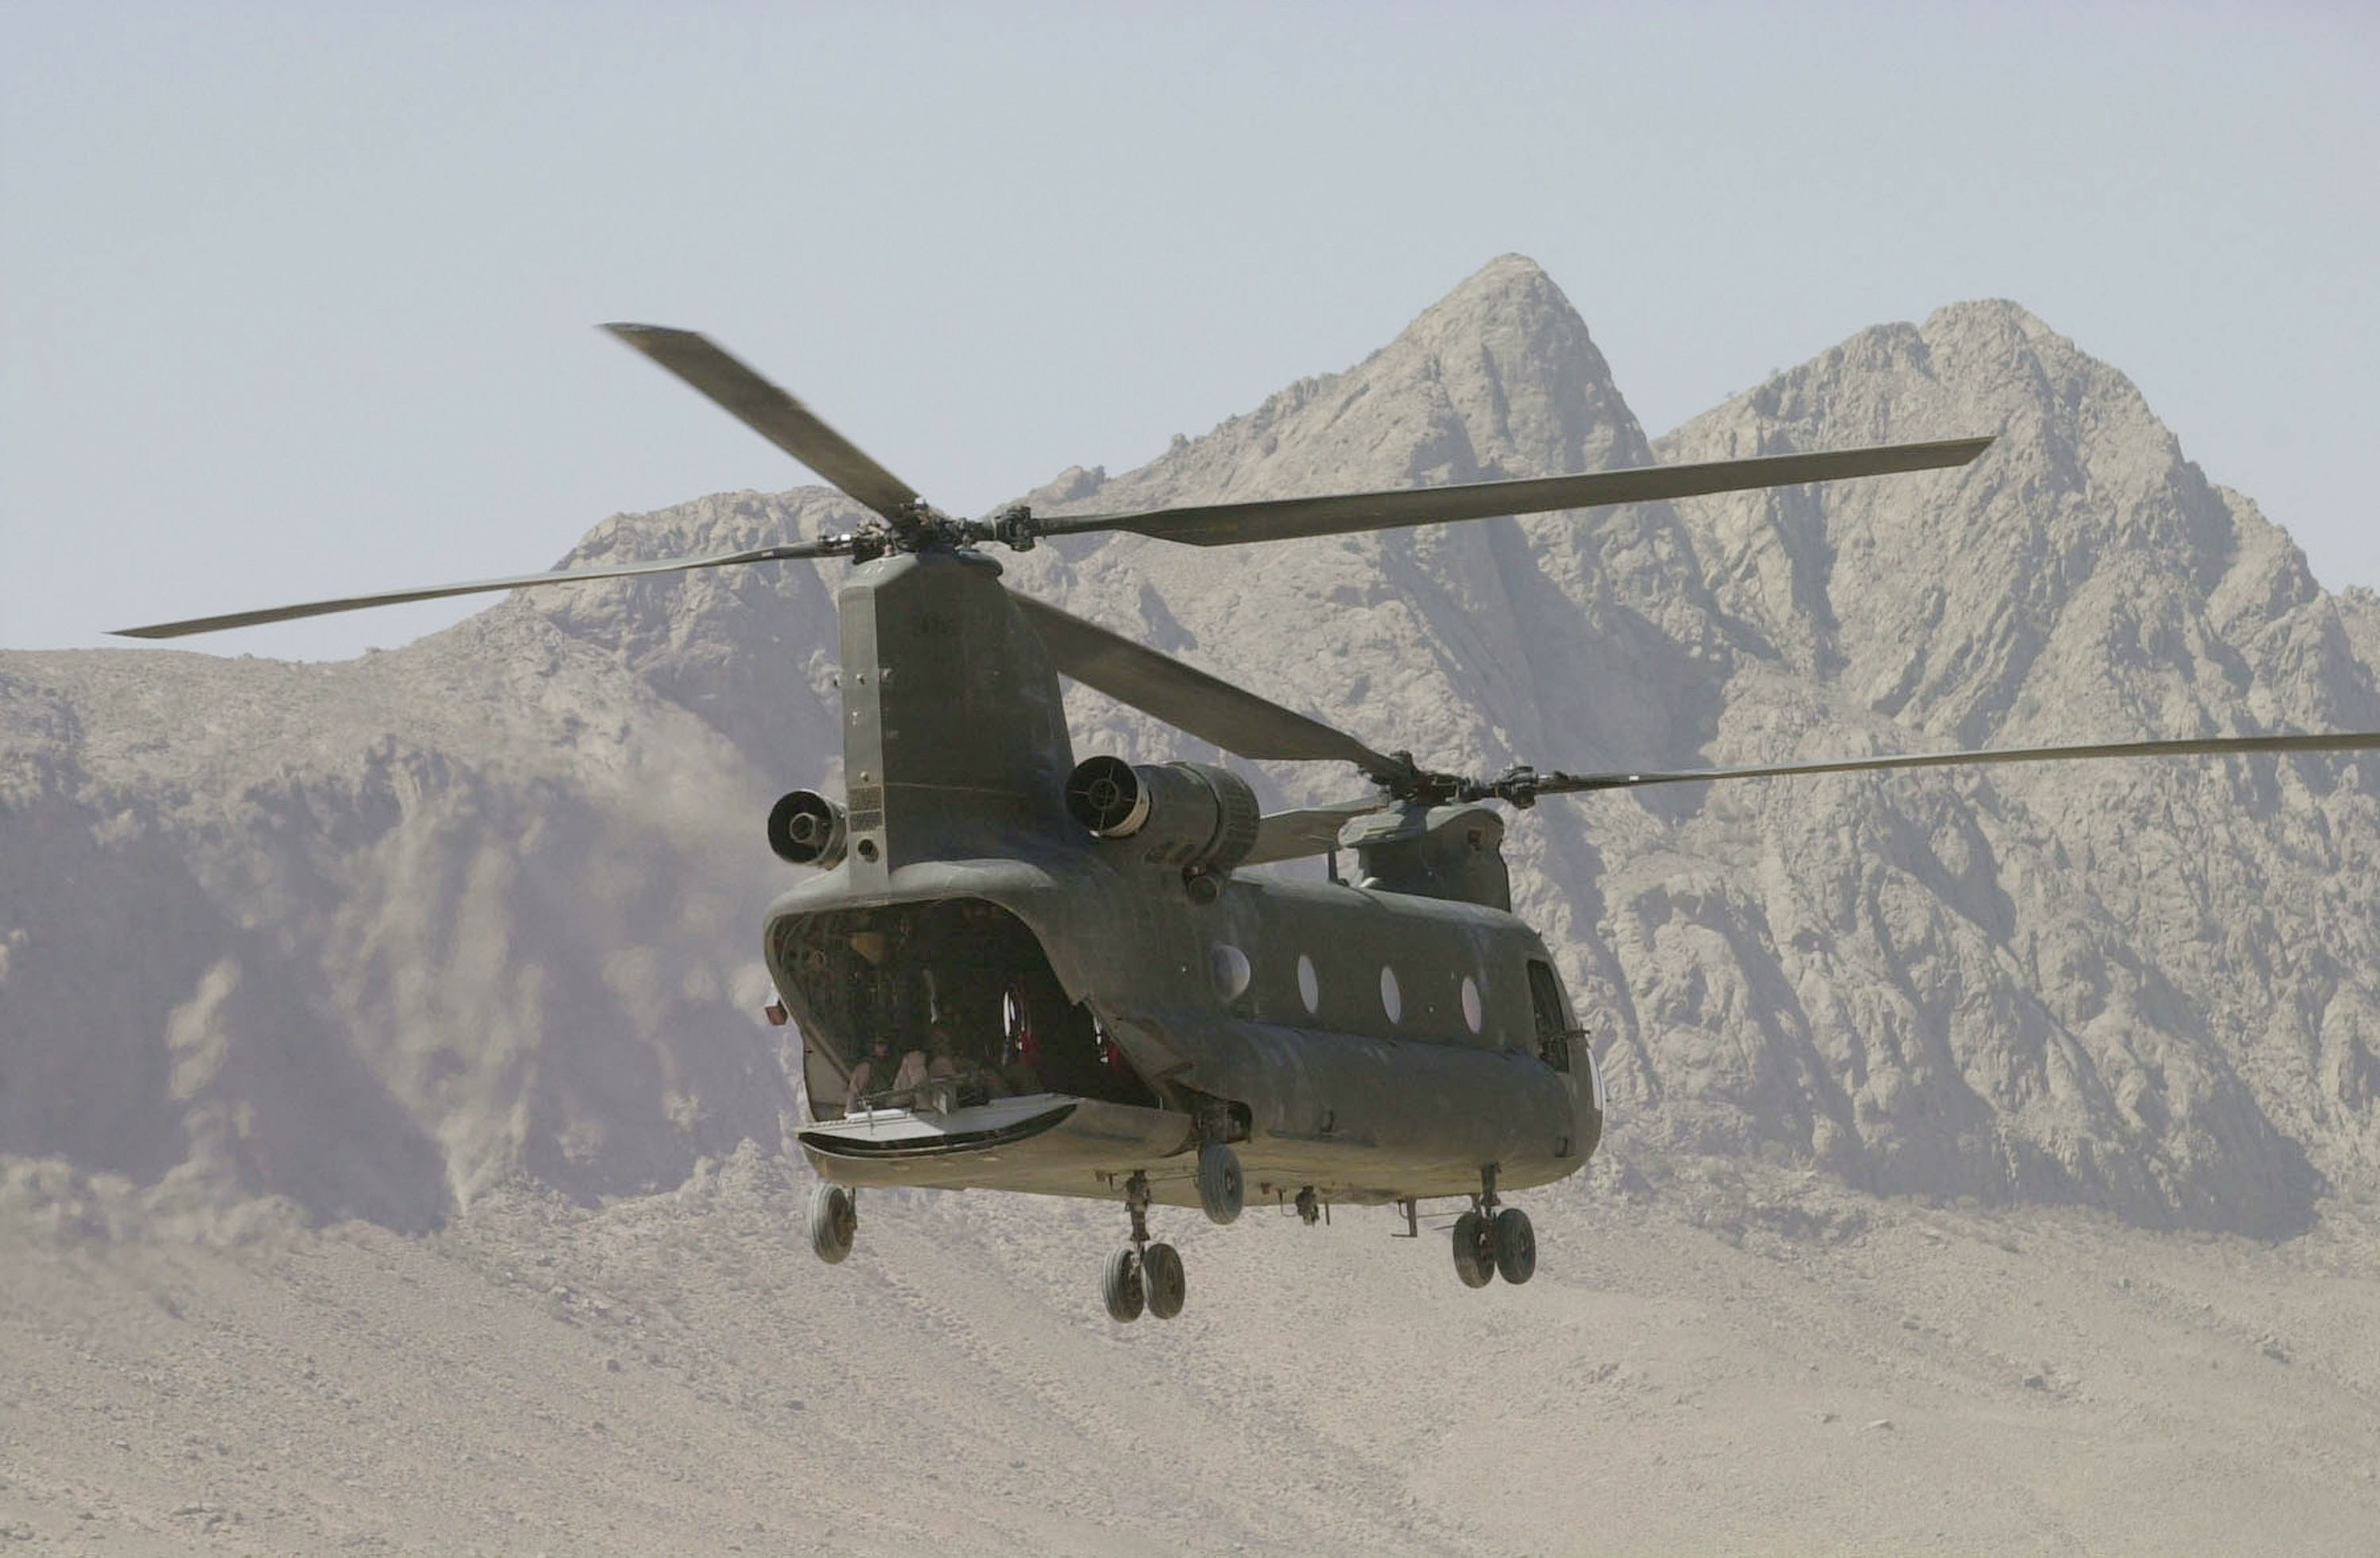chinook: (622, 485, 1676, 1341)
